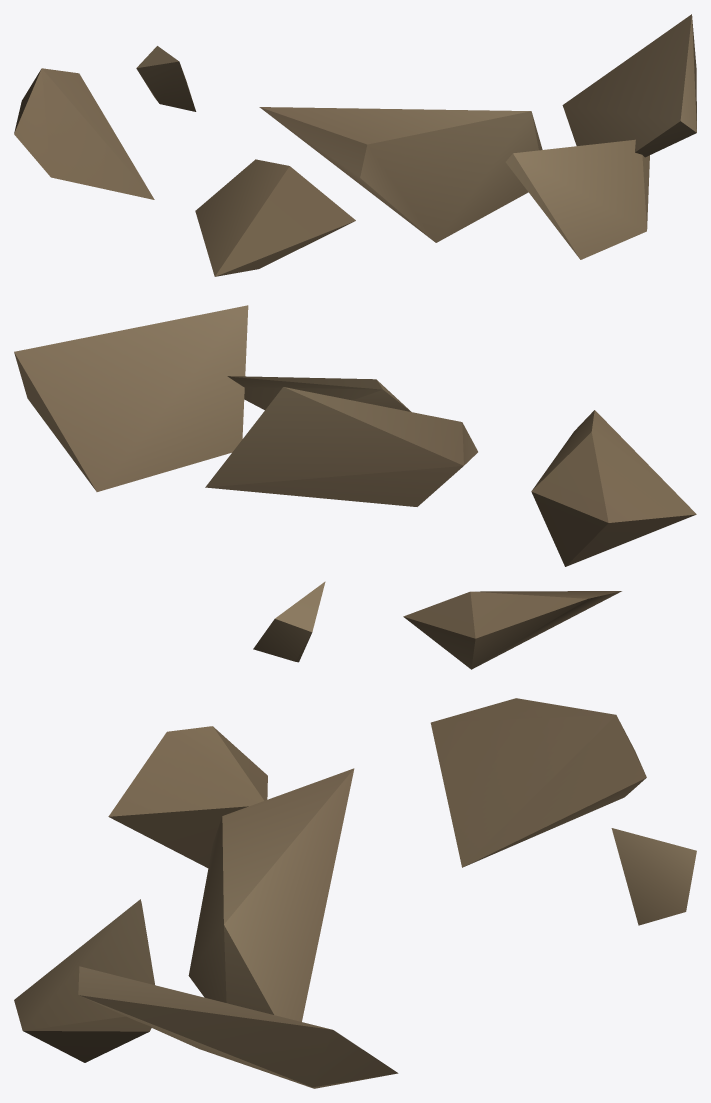
The model's file is rock.pebbles.sand.glb.
3 views of the same model, one above another, from view 1: azimuth 30°, elevation 25°; view 2: azimuth 150°, elevation 25°; view 3: azimuth 270°, elevation 25° (orthographic). The views are drawn at different scales.
Visible parts, largest first — view 1: rock_pebbles_sand; view 2: rock_pebbles_sand; view 3: rock_pebbles_sand.
Boxes of the visible parts, x1=… form: rock_pebbles_sand: x1=14, y1=14, x2=696, y2=276; rock_pebbles_sand: x1=14, y1=305, x2=696, y2=669; rock_pebbles_sand: x1=14, y1=698, x2=696, y2=1088.
Size of the model in its own units: 0.858 by 0.1681 by 0.6784.
